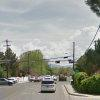Car: (36, 72, 62, 95)
